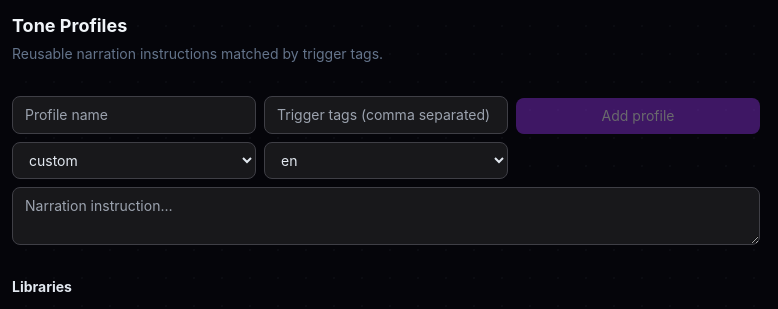
Test: ToneTab › enables Add profile when name and instruction are filled
The width and height of the screenshot is (778, 309).
In the field with placeholder "Profile name": point(134, 115) left=12, top=96, right=256, bottom=134, type "Geralt"
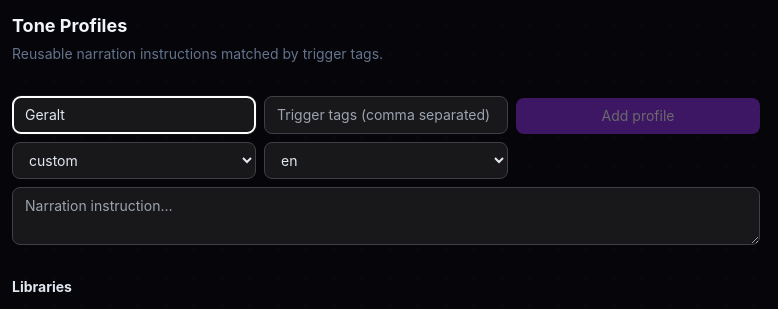
In the text box with placeholder "Narration instruction…": point(386, 216) left=12, top=187, right=760, bottom=245, type "Terse, gritty"
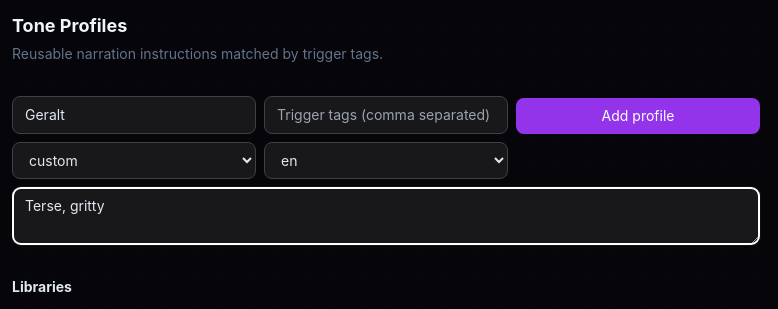
Now the button "Add profile" is enabled, box left=516, top=98, right=760, bottom=134
